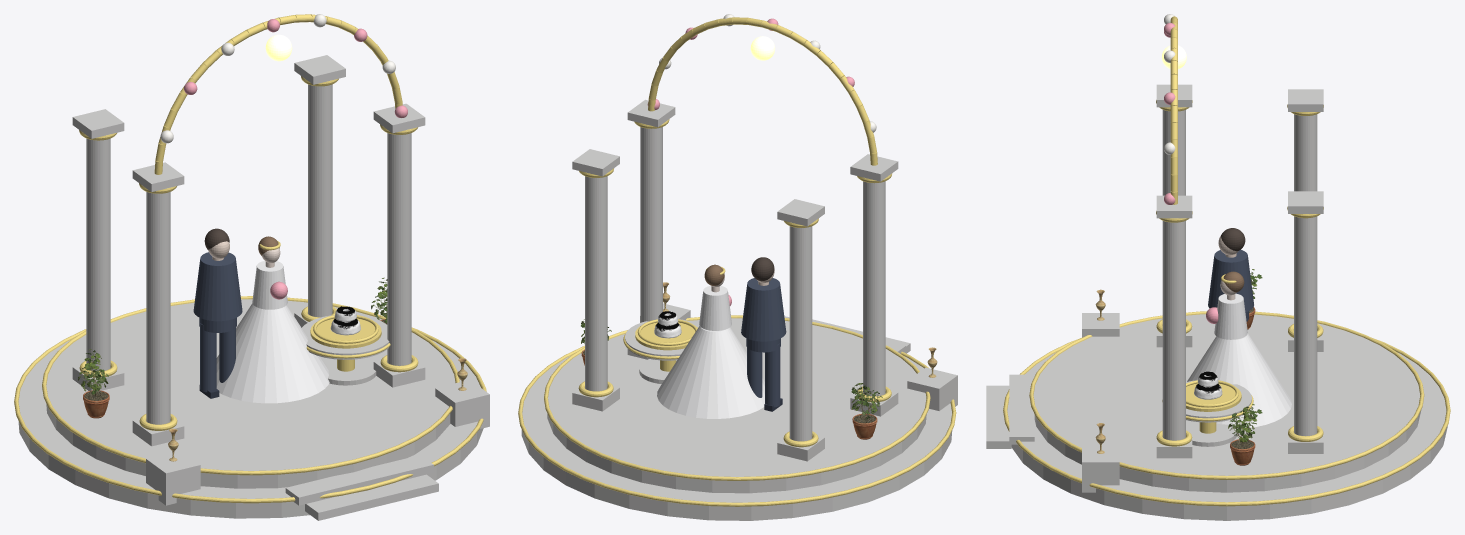
File: wedding_environment.glb
3 views of the same model, side by side, from view 1: azimuth 30°, elevation 25°; view 2: azimuth 150°, elevation 25°; view 3: azimuth 270°, elevation 25° (orthographic). The views are drawn at different scales.
Parts seen in each view (by area): view 1: Terrace_Tier_Upper, Terrace_Tier_Lower, Cone.001, Col_Shaft_FL, Col_Shaft_BR, Col_Shaft_FR, Col_Shaft_BL, Trim_Upper_Gold, Trim_Lower_Gold, Cone, Terrace_Step_0, Terrace_Step_1 (+17 smaller); view 2: Terrace_Tier_Upper, Terrace_Tier_Lower, Cone.001, Col_Shaft_BL, Col_Shaft_BR, Col_Shaft_FL, Col_Shaft_FR, Trim_Upper_Gold, Trim_Lower_Gold, Cone, Cube.003, Cone.002 (+14 smaller); view 3: Terrace_Tier_Upper, Terrace_Tier_Lower, Col_Shaft_FR, Col_Shaft_BR, Cone.001, Trim_Upper_Gold, Trim_Lower_Gold, Col_Shaft_BL, Terrace_Step_0, Cube.004, Cone, Col_Shaft_FL (+12 smaller).
Part boxes in pixels (bbox=[...]): Terrace_Tier_Upper: bbox=[46, 299, 455, 488]; Terrace_Tier_Lower: bbox=[18, 340, 483, 518]; Cone.001: bbox=[216, 303, 329, 403]; Col_Shaft_FL: bbox=[146, 192, 170, 424]; Col_Shaft_BR: bbox=[308, 84, 332, 317]; Col_Shaft_FR: bbox=[387, 133, 411, 365]; Col_Shaft_BL: bbox=[86, 138, 110, 370]; Trim_Upper_Gold: bbox=[42, 296, 459, 475]; Trim_Lower_Gold: bbox=[14, 327, 486, 503]; Cone: bbox=[193, 252, 242, 321]; Terrace_Step_0: bbox=[285, 455, 433, 505]; Terrace_Step_1: bbox=[305, 474, 438, 520]; Terrace_Tier_Upper: bbox=[547, 318, 926, 493]; Terrace_Tier_Lower: bbox=[521, 356, 952, 520]; Cone.001: bbox=[657, 326, 764, 418]; Col_Shaft_BL: bbox=[789, 226, 812, 441]; Col_Shaft_BR: bbox=[585, 176, 607, 391]; Col_Shaft_FL: bbox=[863, 181, 885, 396]; Col_Shaft_FR: bbox=[640, 127, 662, 322]; Trim_Upper_Gold: bbox=[544, 315, 930, 480]; Trim_Lower_Gold: bbox=[518, 345, 956, 506]; Cone: bbox=[741, 278, 786, 341]; Cube.003: bbox=[907, 367, 957, 410]; Cone.002: bbox=[699, 285, 731, 330]; Terrace_Tier_Upper: bbox=[1033, 314, 1421, 492]; Terrace_Tier_Lower: bbox=[1007, 352, 1447, 520]; Col_Shaft_FR: bbox=[1162, 221, 1185, 440]; Col_Shaft_BR: bbox=[1294, 216, 1317, 436]; Cone.001: bbox=[1187, 333, 1291, 428]; Trim_Upper_Gold: bbox=[1029, 311, 1424, 479]; Trim_Lower_Gold: bbox=[1003, 337, 1450, 506]; Col_Shaft_BL: bbox=[1294, 114, 1317, 191]; Terrace_Step_0: bbox=[1009, 374, 1034, 444]; Cube.004: bbox=[1082, 446, 1119, 492]; Cone: bbox=[1208, 249, 1253, 312]; Col_Shaft_FL: bbox=[1162, 110, 1185, 195].
Size of the model in its own units: 4.26 by 4.21 by 4.42.
17 materials, 4 textured.
